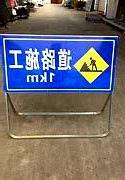sign: (1, 35, 117, 91)
